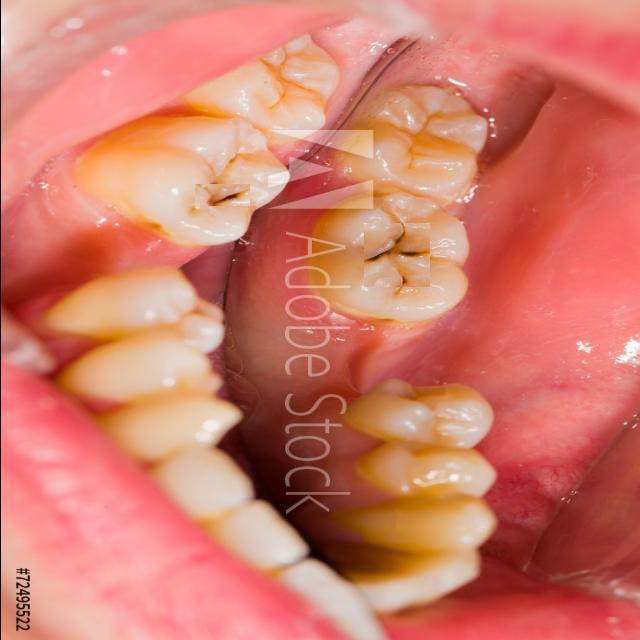decay: (363, 223, 429, 287), (194, 184, 249, 206)
